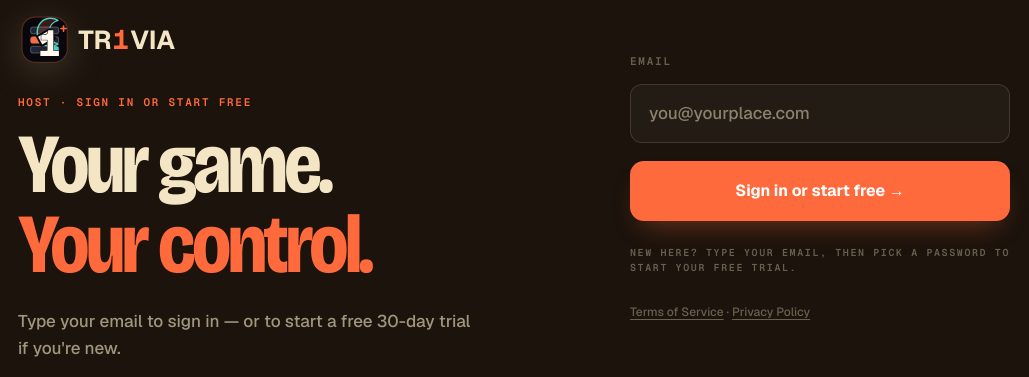
Test: /login — account with no password yet (Heather) › when no code could be sent right now, stays on step 1 with 'Text Brandon for a sign-in link'
Type "heather@example.com" into the field labelled "Email".
click(820, 113); type("heather@example.com")  # box top-left (630, 84), bottom-right (1010, 143)
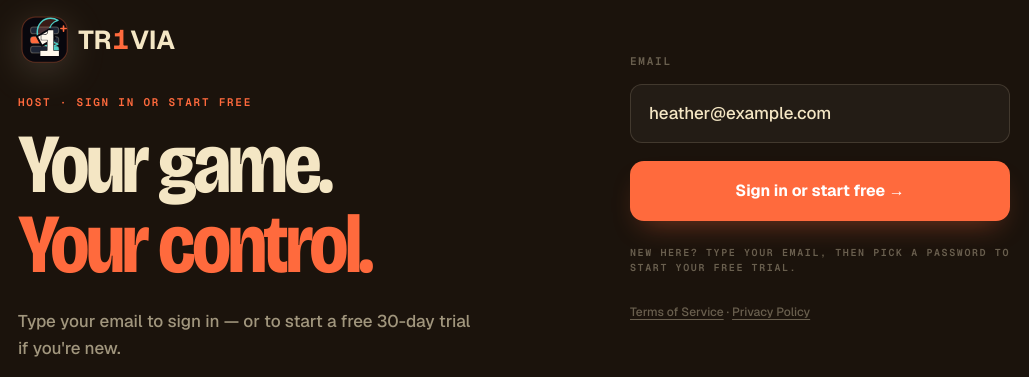
Click the button with test id "login-submit".
click(820, 191)  # box top-left (630, 161), bottom-right (1010, 221)
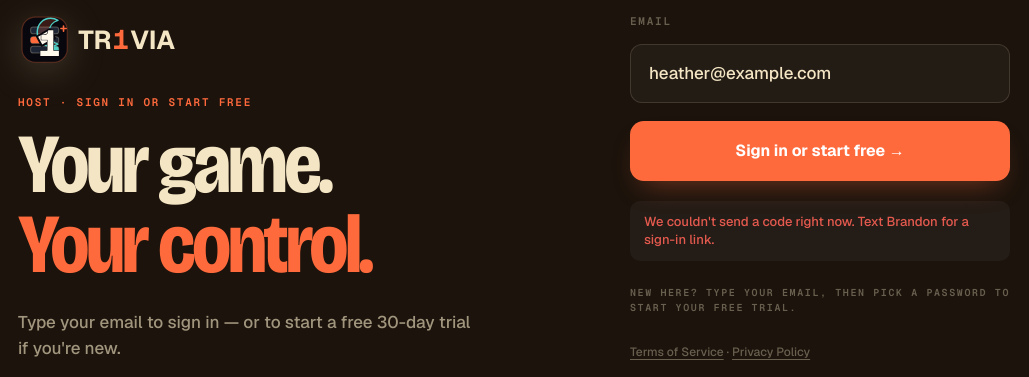
Result: the message reads "We couldn't send a code right now. Text Brandon for a sign-in link." at top-left (644, 213), bottom-right (969, 248)
